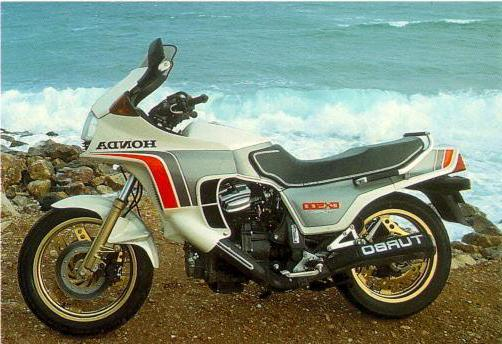motorcycle: (9, 30, 486, 344)
